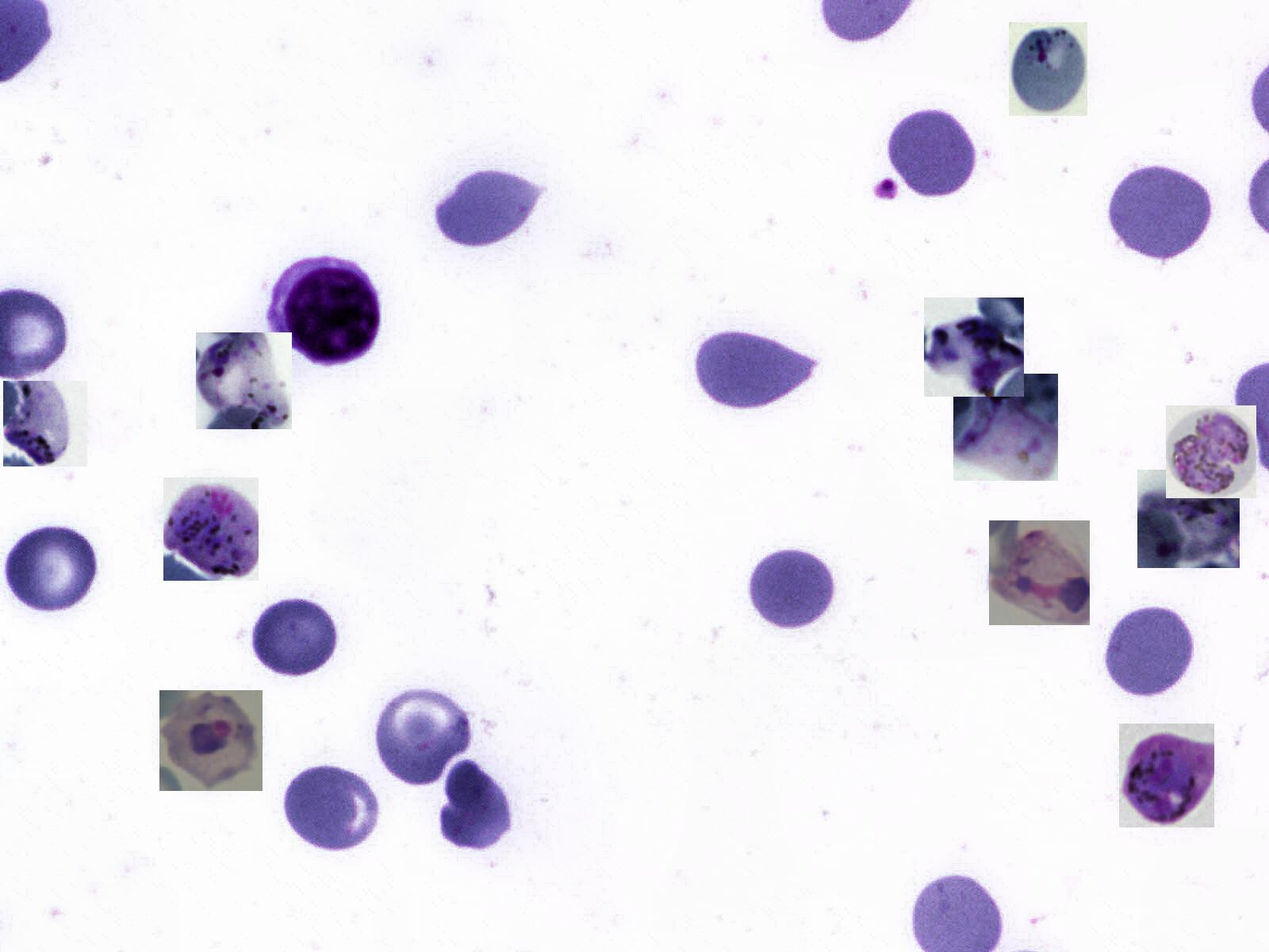Infected: (269, 255, 388, 369), (953, 374, 1058, 481), (989, 520, 1090, 625), (159, 690, 263, 791), (1137, 470, 1240, 569), (924, 298, 1024, 397), (163, 478, 259, 581), (1119, 724, 1214, 827), (196, 332, 292, 429), (1166, 405, 1256, 498), (1009, 22, 1087, 116), (4, 381, 87, 466)
Uninfected: (692, 327, 818, 412), (1108, 161, 1213, 261), (374, 688, 473, 789), (0, 521, 102, 617), (278, 760, 381, 854), (884, 104, 980, 204), (1102, 601, 1198, 701), (431, 166, 542, 251), (434, 754, 515, 851), (748, 543, 837, 631), (251, 593, 340, 679)
